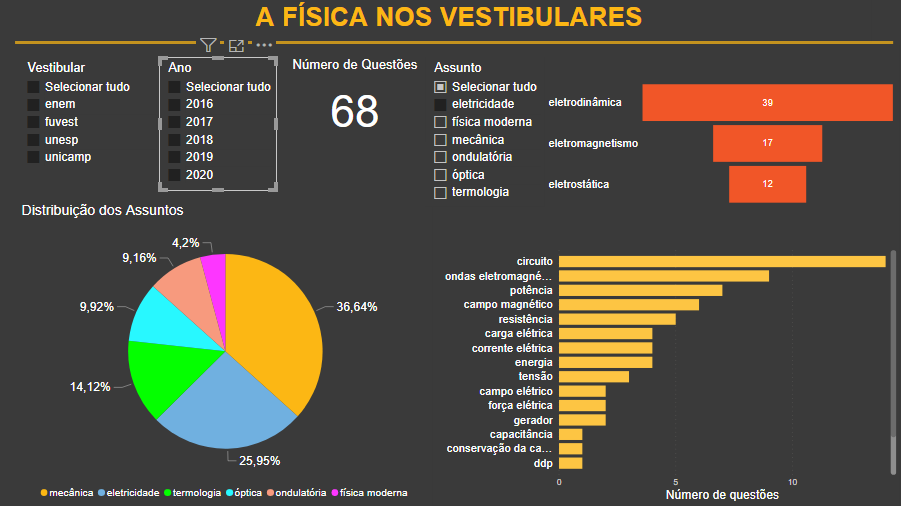

This screenshot's page, from the dashboard's own definition file:
{"tool":"powerbi","page":{"name":"Página 1","canvas":[1280,720],"ordinal":0},"visuals":[{"type":"pieChart","title":"Distribuição dos Assuntos","fields":{"Category":["questoes2.Assunto"],"Y":["Count(questoes2.id)"]},"box":[26.4,287.7,589.4,432.3],"z":0},{"type":"slicer","fields":{"Values":["questoes2.Ano"]},"box":[227.2,82.4,167.6,190.3],"z":1000},{"type":"slicer","fields":{"Values":["questoes2.Vestibular"]},"box":[27,82.4,201.7,161.9],"z":2000},{"type":"funnel","title":"Conteúdo detalhado dos assuntos","fields":{"Category":["questoes2.Área"],"Y":["CountNonNull(questoes2.Assunto)"]},"box":[785.3,65.3,494.2,278.3],"z":3000},{"type":"slicer","fields":{"Values":["questoes2.Assunto"]},"box":[605,82.4,170.4,211.6],"z":4000},{"type":"card","title":"Número de Questões","fields":{"Values":["CountNonNull(questoes2.Questão)"]},"box":[406.2,82.4,198.8,122.1],"z":5000},{"type":"clusteredBarChart","fields":{"Category":["questoes2.Conteúdo"],"Y":["CountNonNull(questoes2.Vestibular)"]},"box":[616.3,343.7,663.2,376.3],"z":6000},{"type":"textbox","box":[40.4,0,1199,62.2],"z":7000},{"type":"basicShape","box":[12.4,31.1,1267.4,60.6],"z":8000}]}

Visuals, with their boxes in screenshot pixels (x1, y1, x2, y2), scaled from the page's 1280x720 canvas onto the 901x506 screenshot:
"Distribuição dos Assuntos" pieChart: l=19, t=202, r=433, b=505
slicer - questoes2.Ano: l=160, t=58, r=278, b=192
slicer - questoes2.Vestibular: l=19, t=58, r=161, b=172
"Conteúdo detalhado dos assuntos" funnel: l=553, t=46, r=900, b=241
slicer - questoes2.Assunto: l=426, t=58, r=546, b=207
"Número de Questões" card: l=286, t=58, r=426, b=144
clusteredBarChart - questoes2.Conteúdo x CountNonNull(questoes2.Vestibular): l=434, t=242, r=900, b=505
textbox: l=28, t=0, r=872, b=44
basicShape: l=9, t=22, r=900, b=64
